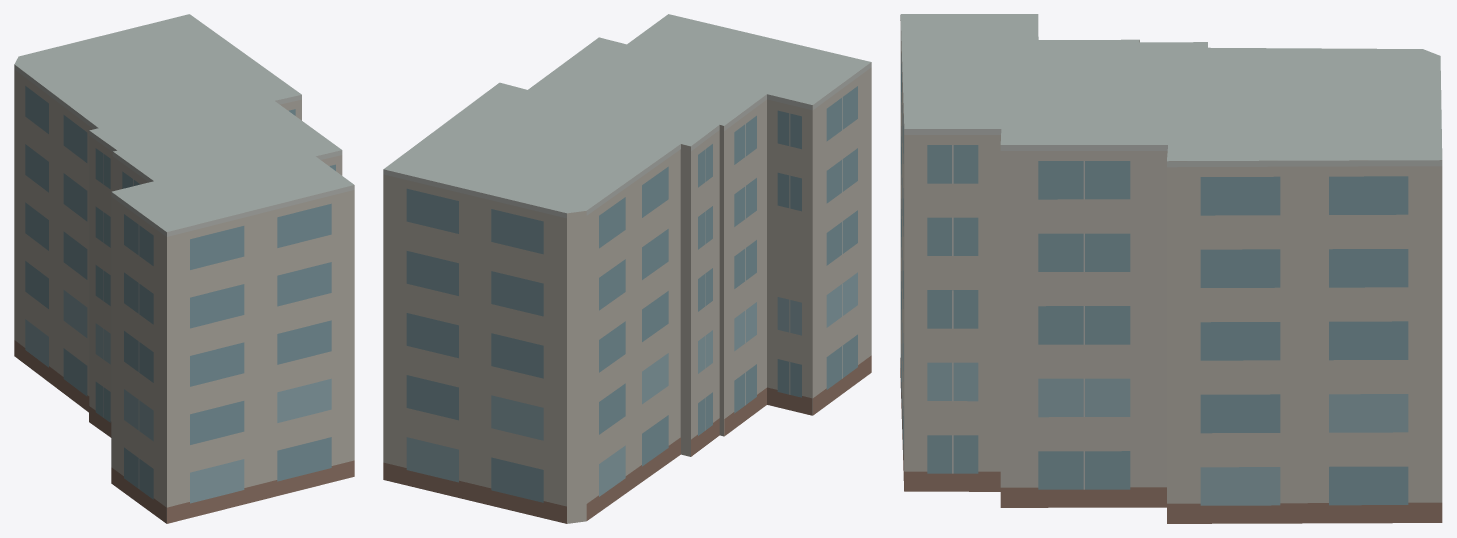
File: survey-upis-32543334.glb
3 views of the same model, side by side, from view 1: azimuth 30°, elevation 25°; view 2: azimuth 150°, elevation 25°; view 3: azimuth 270°, elevation 25° (orthographic). The views are drawn at different scales.
Visible parts, largest first — view 1: survey-upis-32543334.tmp; view 2: survey-upis-32543334.tmp; view 3: survey-upis-32543334.tmp.
Boxes of the visible parts, left/top/right/bottom form: survey-upis-32543334.tmp: left=14, top=14, right=354, bottom=523; survey-upis-32543334.tmp: left=383, top=14, right=871, bottom=523; survey-upis-32543334.tmp: left=900, top=14, right=1442, bottom=523.
Size of the model in its own units: 12.71 by 14.6 by 19.77.
